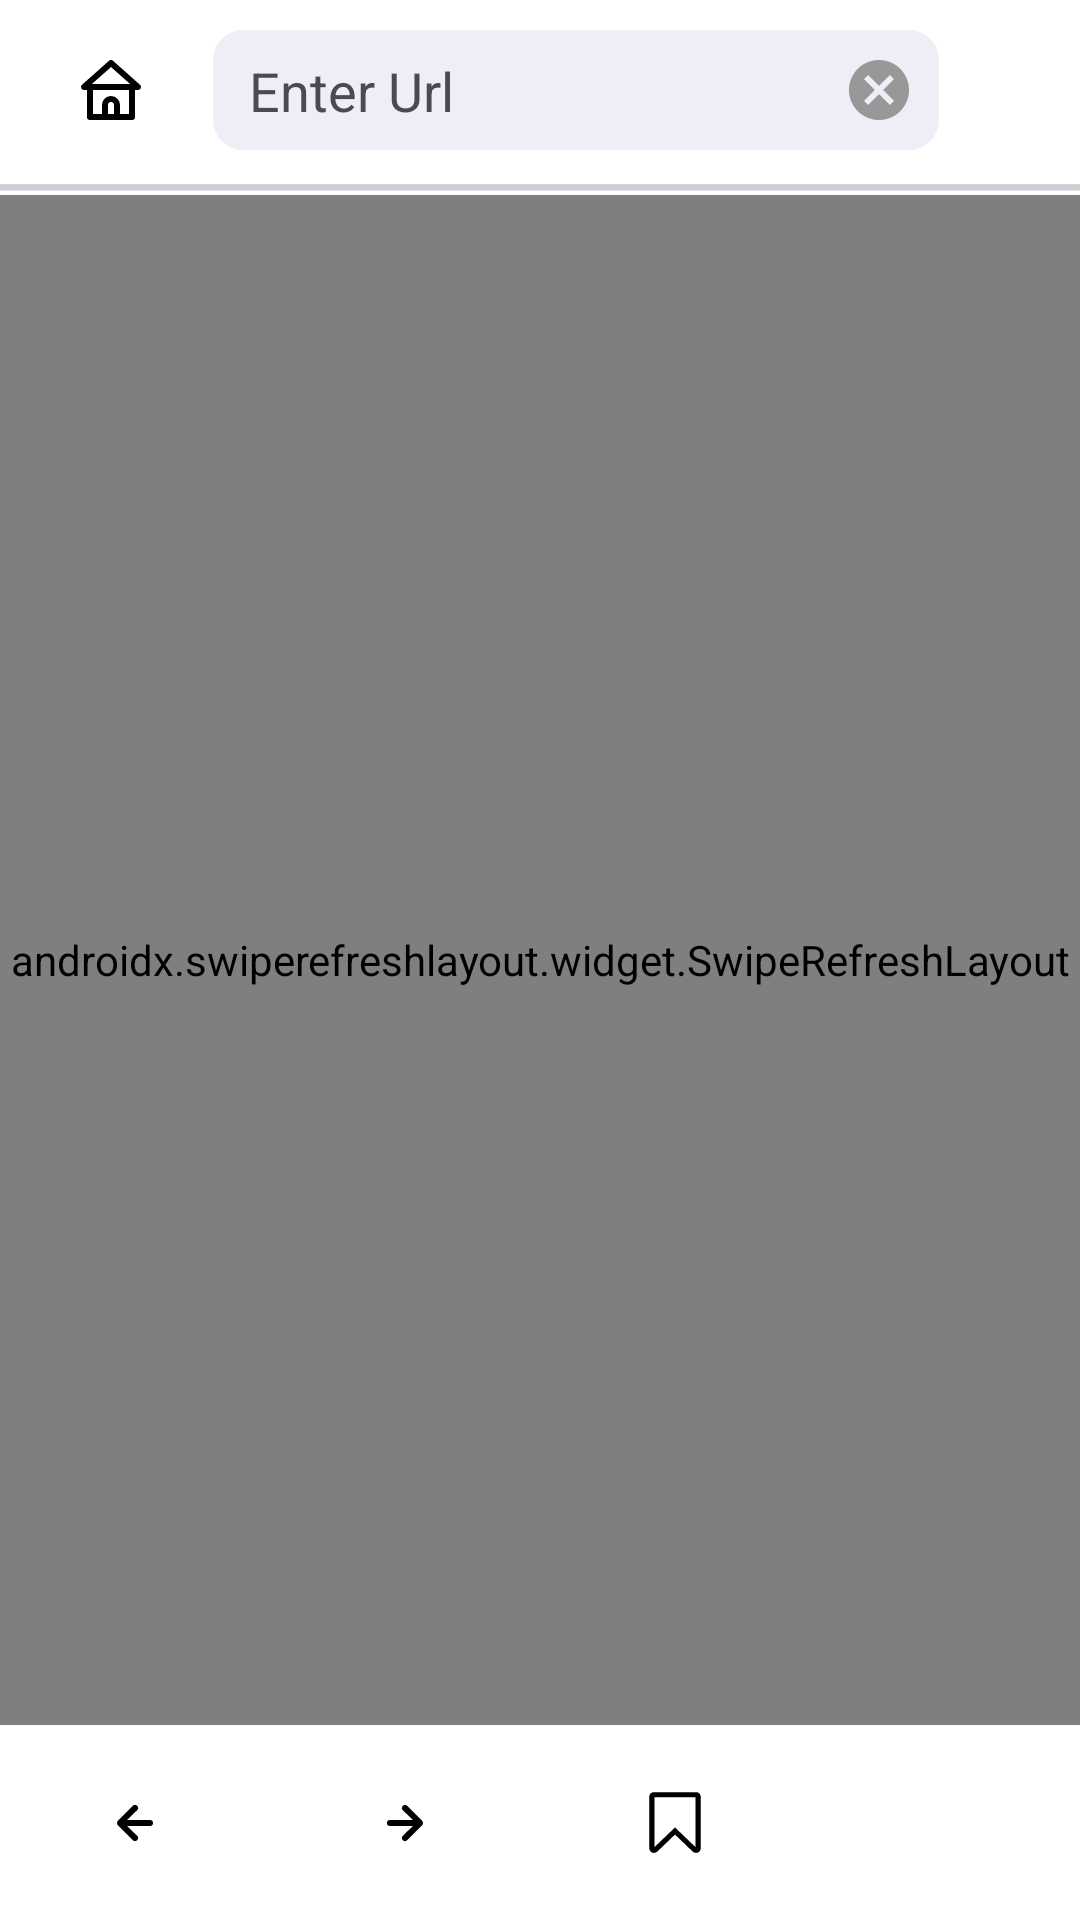

Named icons in this screenshot (1080 x 1920) and their bounding boxes, (x1, y1, x2, y2):
arrow left: (117, 1805, 153, 1841)
bookmark button: (649, 1792, 701, 1853)
click this to go on next page previously opened: (387, 1805, 423, 1841)
cross: (849, 60, 909, 120)
home: (81, 60, 141, 120)
